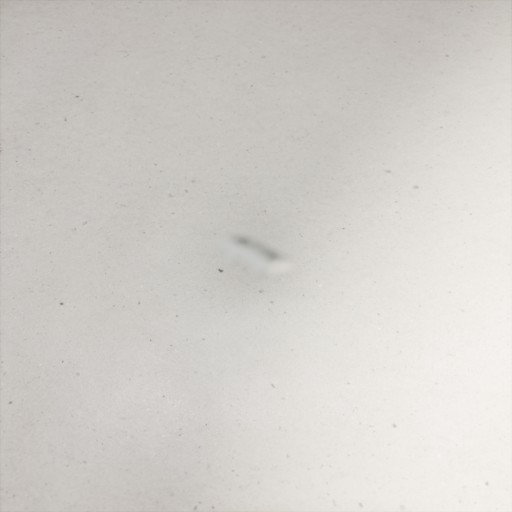lego: (216, 235, 295, 276)
